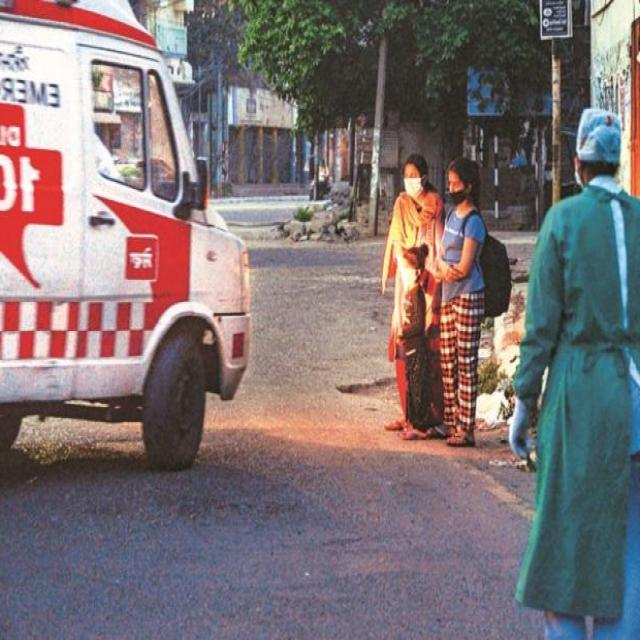emergency: (0, 0, 251, 469)
